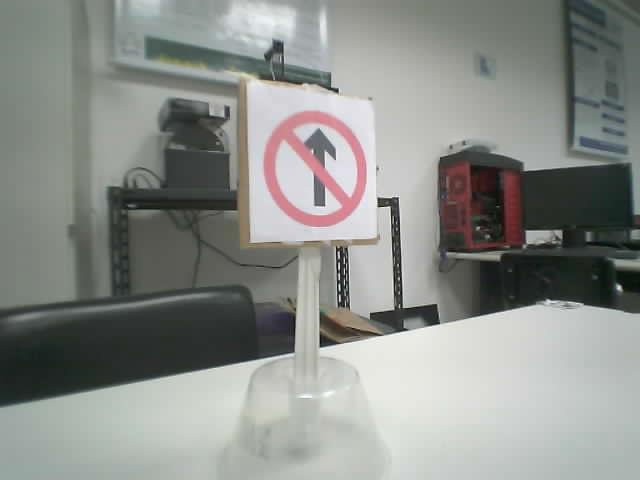R-3_sentido-proibido: (263, 109, 367, 227)
